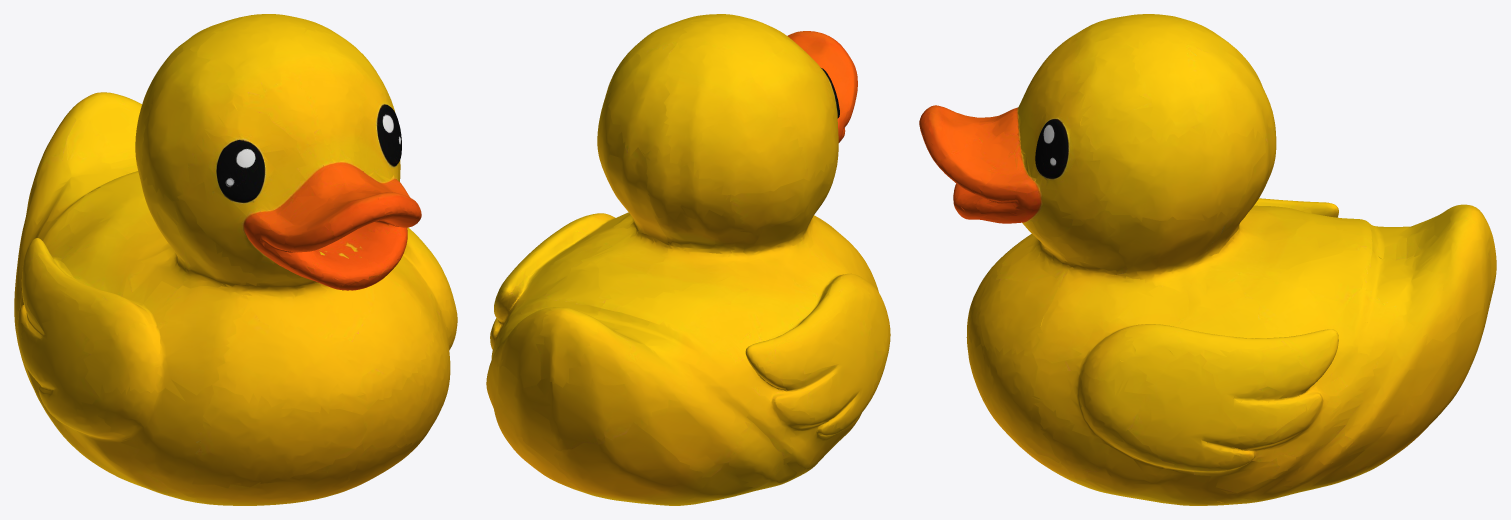
The model's file is duck.glb.
3 renders of one model, left to right at view 1: azimuth 30°, elevation 25°; view 2: azimuth 150°, elevation 25°; view 3: azimuth 270°, elevation 25°, orthographic. The views are drawn at different scales.
Size of the model in its own units: 1.35 by 1.55 by 1.9.
1 material, 1 textured.
